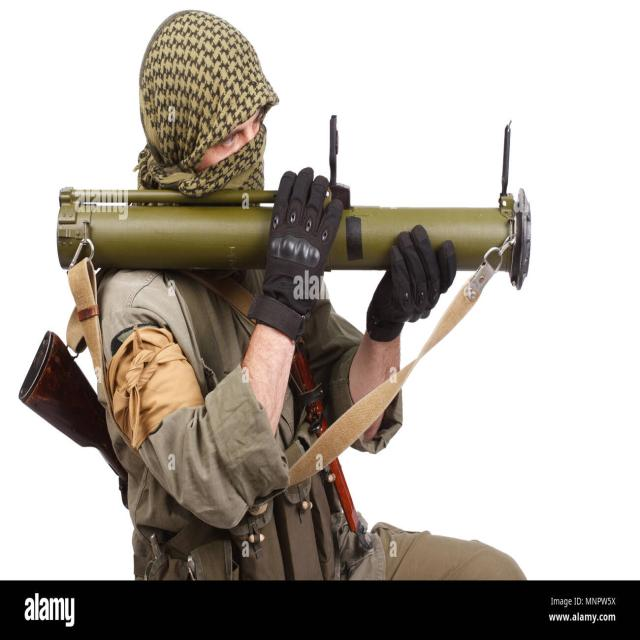bazooka: (42, 160, 548, 319)
